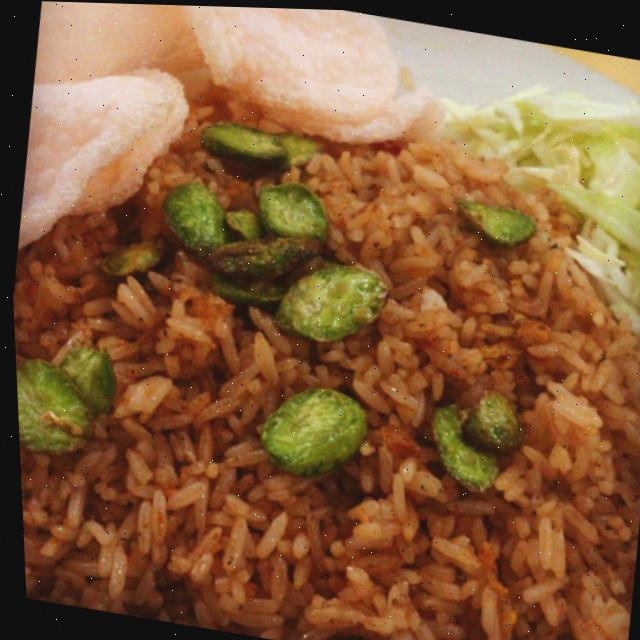米饭主食: (0, 6, 640, 640)
